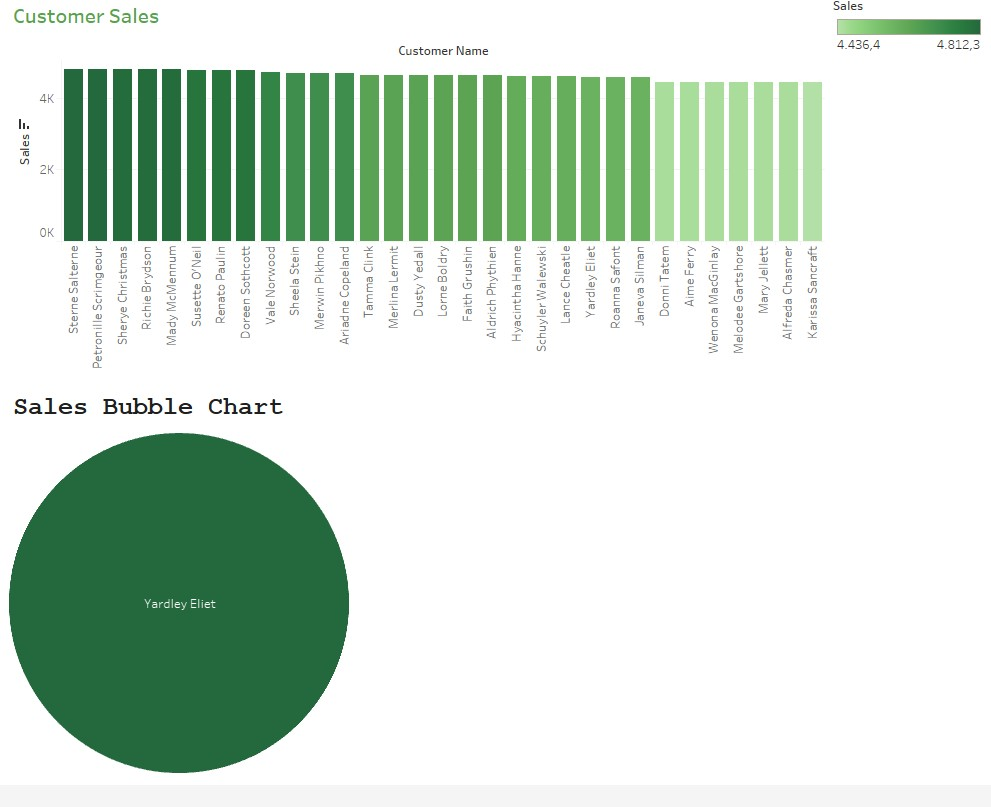

This screenshot's page, from the dashboard's own definition file:
{"tool":"tableau","page":{"name":"Dashboard 1","canvas":[1000,800],"ordinal":0},"visuals":[{"type":"worksheet","title":"Customer Sales","mark":"Automatic","rows":["Sales"],"cols":["Customer Name"],"box":[8,8,824,392]},{"type":"legend","title":"Customer Sales","param":"[federated.0fs94tl1ne56c71abpo0j1dp4389].[sum:Sales:qk]","box":[832,8,160,65]},{"type":"worksheet","title":"Sales Bubble Chart","mark":"Circle","box":[8,400,984,392]}]}

Visuals, with their boxes in screenshot pixels (x1, y1, x2, y2), scaled from the page's 1000x800 canvas onto the 991x807 screenshot:
"Customer Sales" worksheet: region(8, 8, 825, 404)
"Customer Sales" legend: region(825, 8, 983, 74)
"Sales Bubble Chart" worksheet (Circle marks): region(8, 404, 983, 799)
